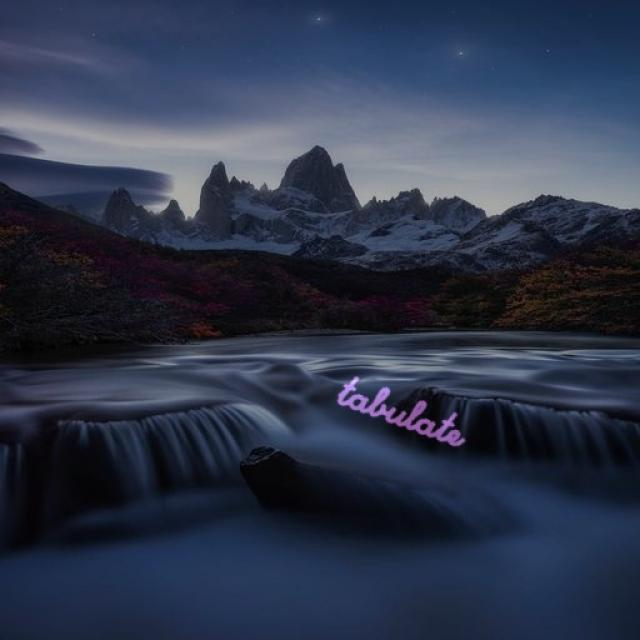watermark: (327, 370, 491, 454)
